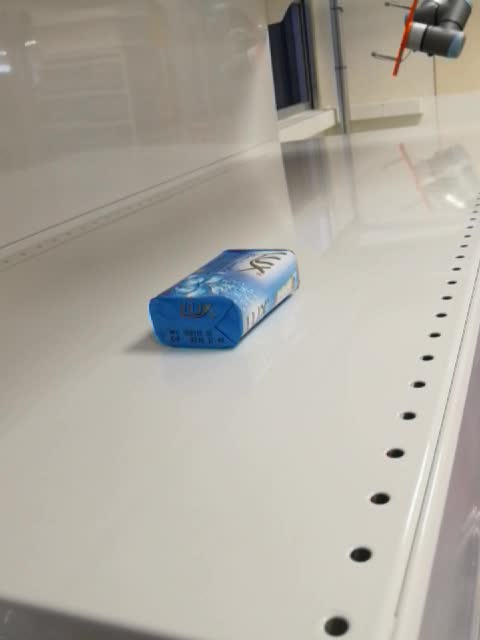soap: (146, 248, 302, 352)
